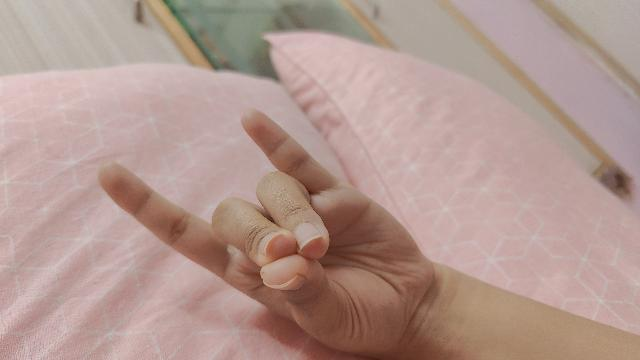sinhamukh: (99, 109, 619, 360)
